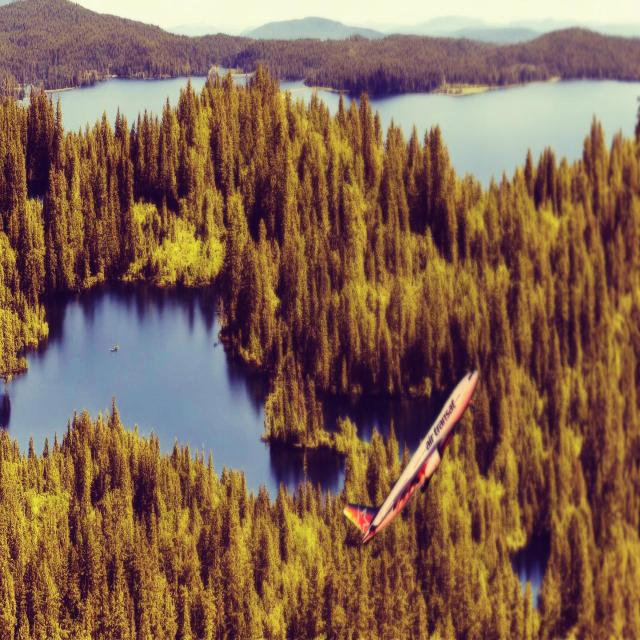airplane: (342, 369, 479, 545)
